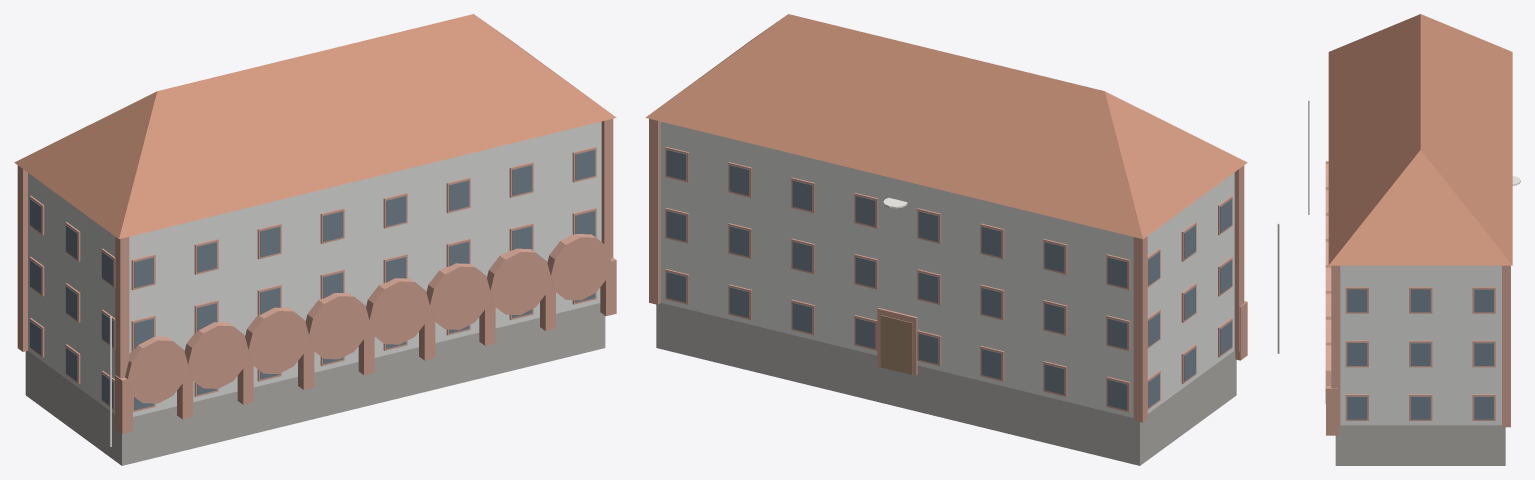
File: kandern-rathaus.glb
3 views of the same model, side by side, from view 1: azimuth 30°, elevation 25°; view 2: azimuth 150°, elevation 25°; view 3: azimuth 270°, elevation 25° (orthographic). The views are drawn at different scales.
Parts seen in each view (by area): view 1: building; view 2: building; view 3: building.
Boxes of the visible parts, box(x1,y1,x2,y2) form: building: box(14, 14, 616, 465); building: box(645, 14, 1279, 465); building: box(1308, 14, 1520, 465).
Bounding box in the file's own units: 29.28 × 17.23 × 11.85.
